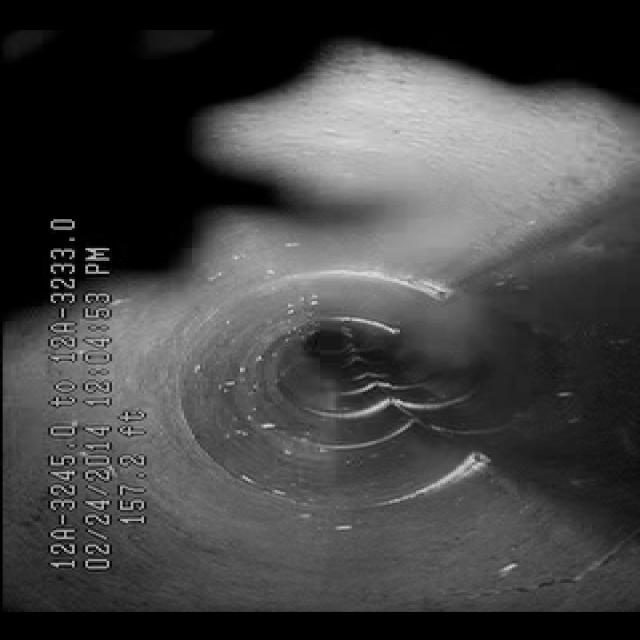Crack: (436, 542, 620, 606)
